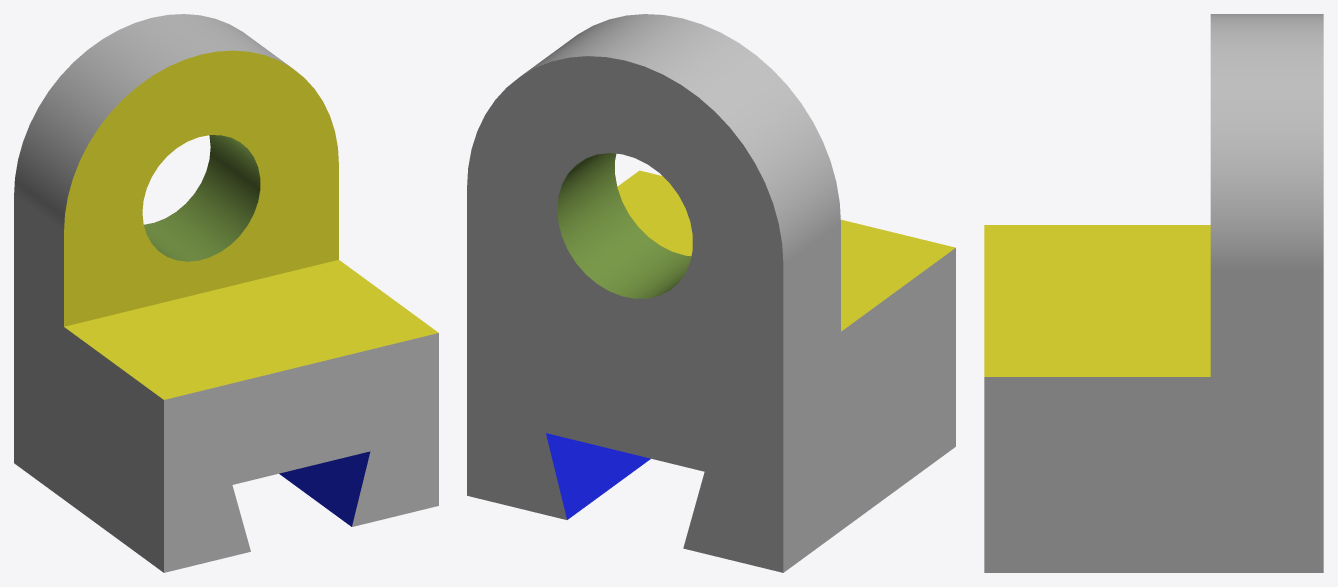
3 renders of one model, left to right at view 1: azimuth 30°, elevation 25°; view 2: azimuth 150°, elevation 25°; view 3: azimuth 270°, elevation 25°, orthographic. The views are drawn at different scales.
Visible parts, largest first — view 1: Solid1; view 2: Solid1; view 3: Solid1.
Part boxes in pixels (<box>): Solid1: <box>14,14,438,572</box>; Solid1: <box>467,14,955,572</box>; Solid1: <box>984,14,1323,572</box>.
Bounding box in the file's own units: 0.0699 × 0.1 × 0.066.
